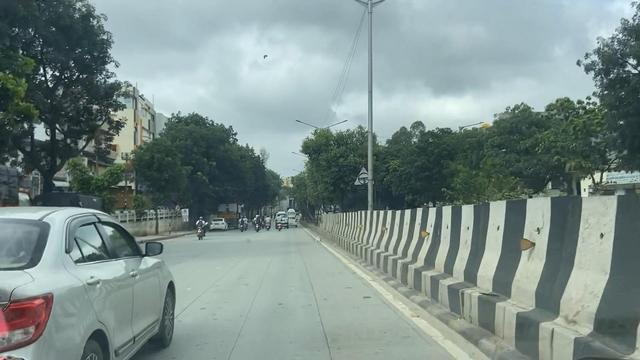LMV: (0, 203, 179, 360)
